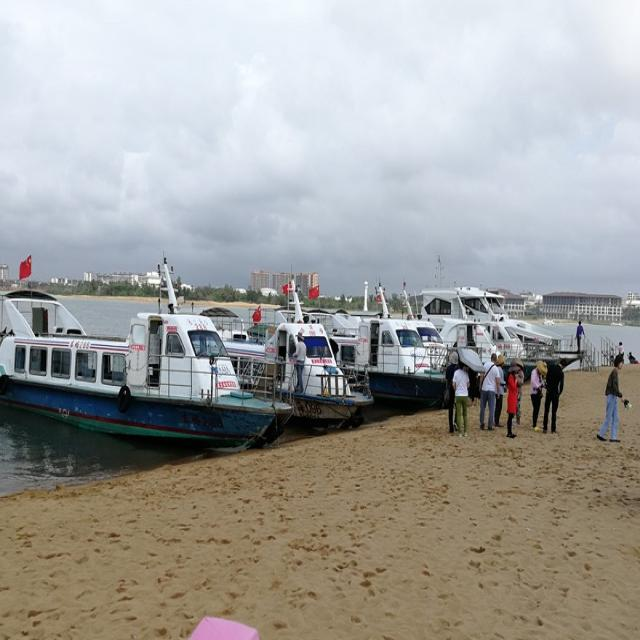fishing boat: (0, 272, 278, 434), (198, 268, 353, 404), (340, 301, 430, 389)
